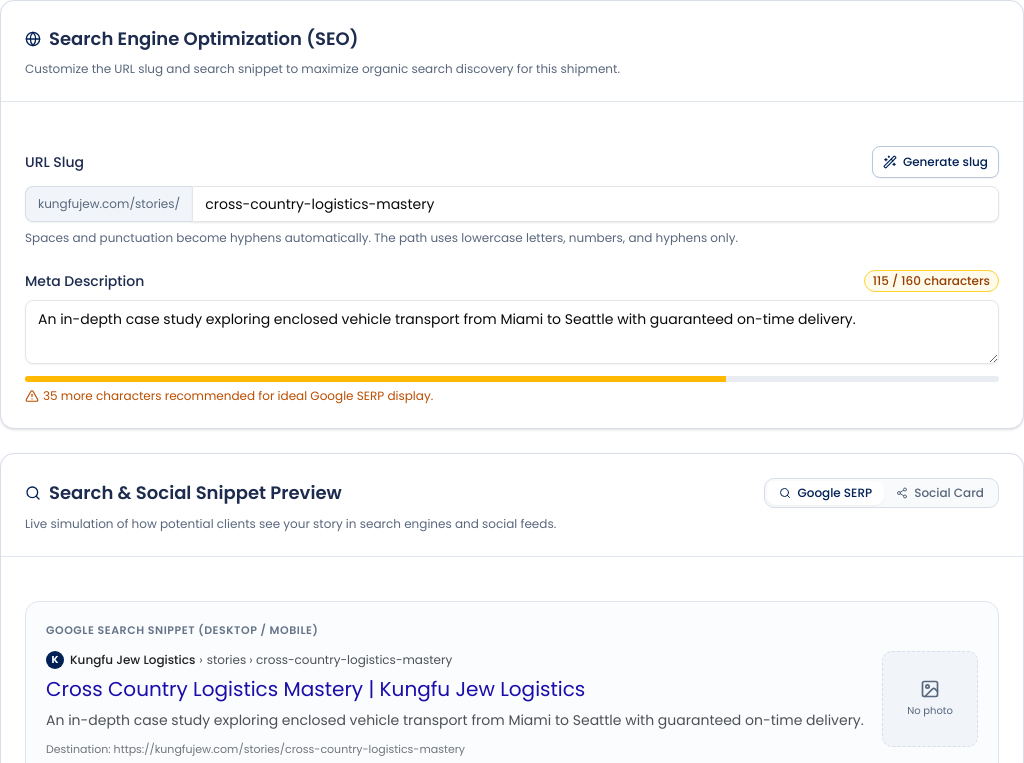
Empirical Component Stress Testing: SeoSocialTab › toggles between Google SERP and Social Card previews
Expected: the text "Google Search Snippet (Desktop / Mobile)" is shown, x1=46 y1=622 x2=318 y2=638
Step 1. Click the button "Social Card" → (940, 493), box x1=884 y1=481 x2=996 y2=505
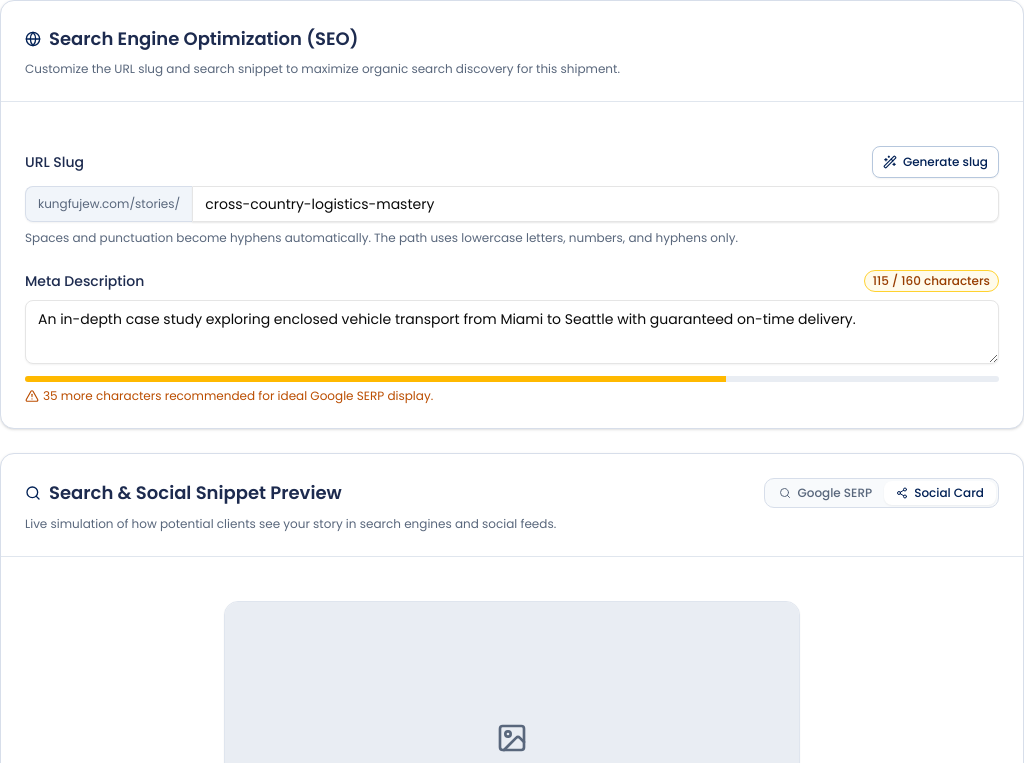
Step 2. Click the button "Google SERP" → (826, 493), box x1=768 y1=481 x2=884 y2=505
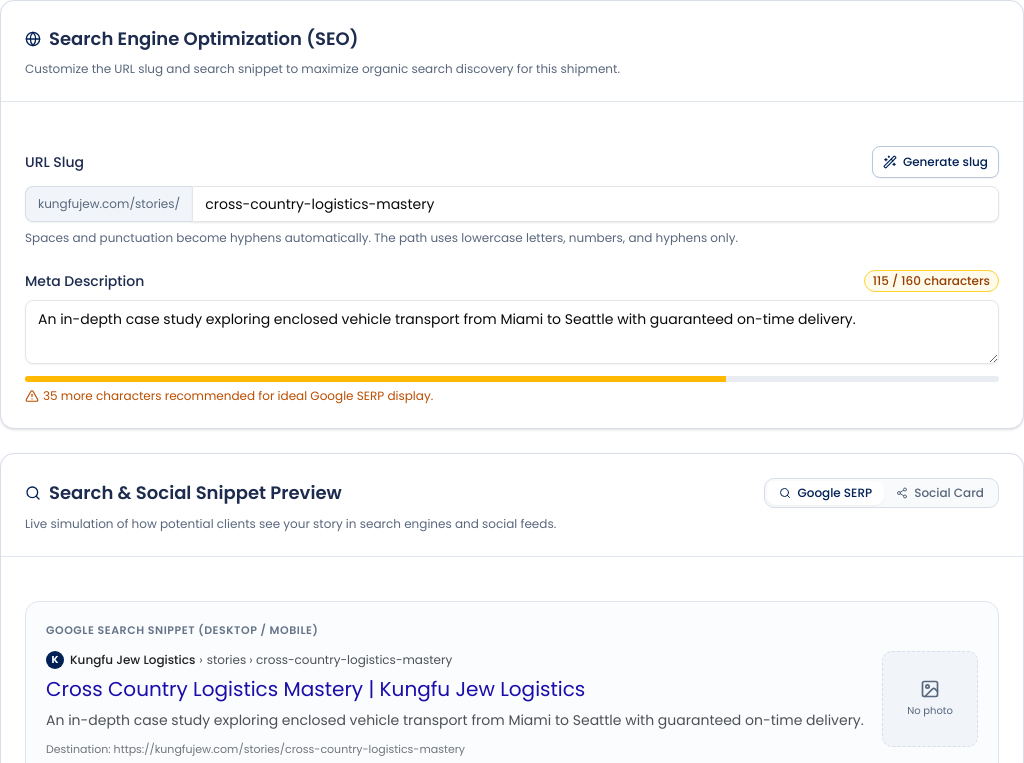
Result: the text "Google Search Snippet (Desktop / Mobile)" is shown at x1=46 y1=622 x2=318 y2=638
